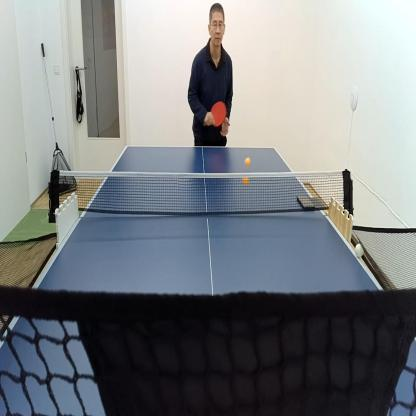Ball: (354, 242, 365, 260), (242, 173, 251, 186), (244, 155, 252, 167)
